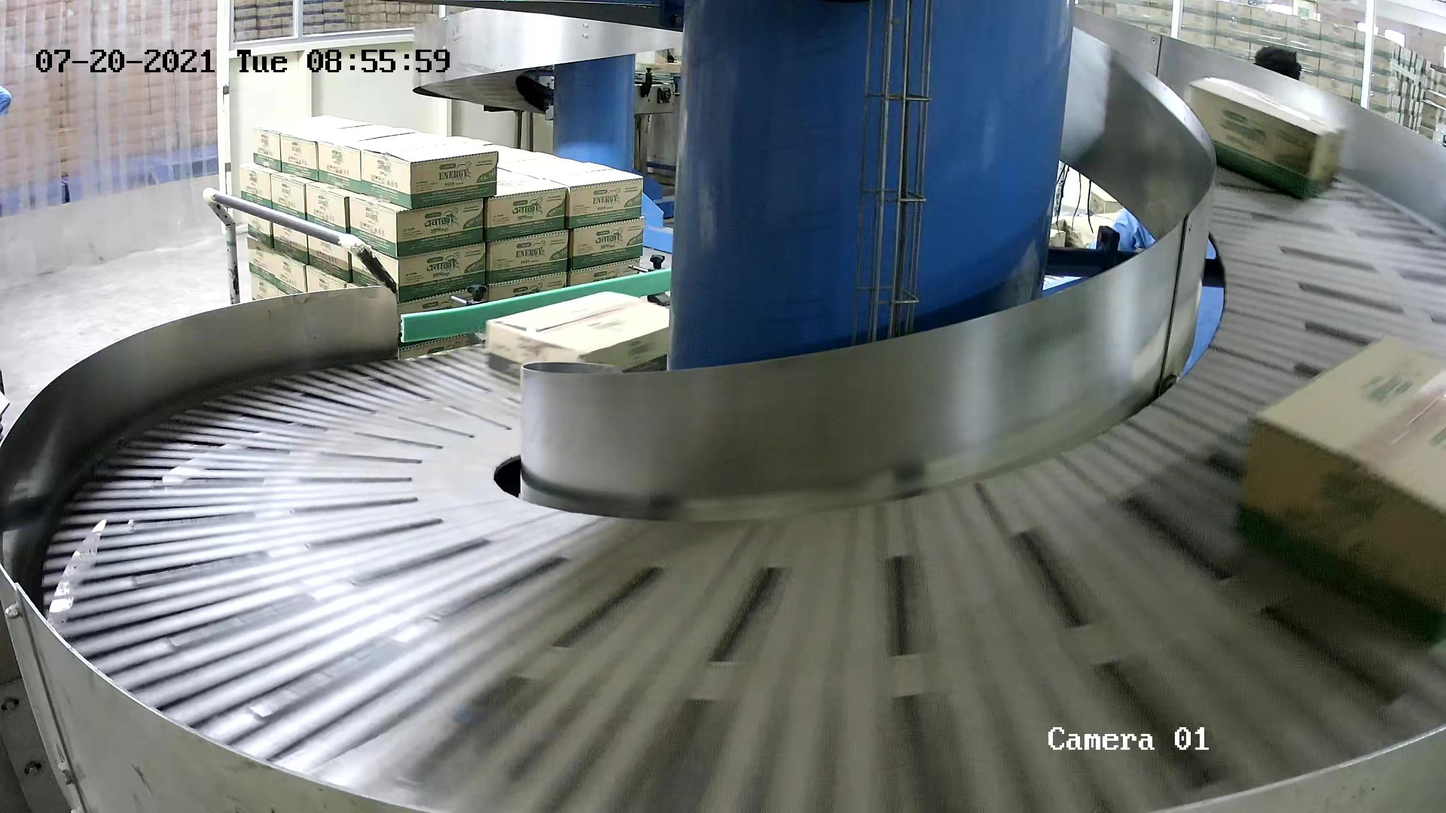Box: (1234, 332, 1446, 643), (1184, 75, 1349, 202), (485, 289, 670, 385)
